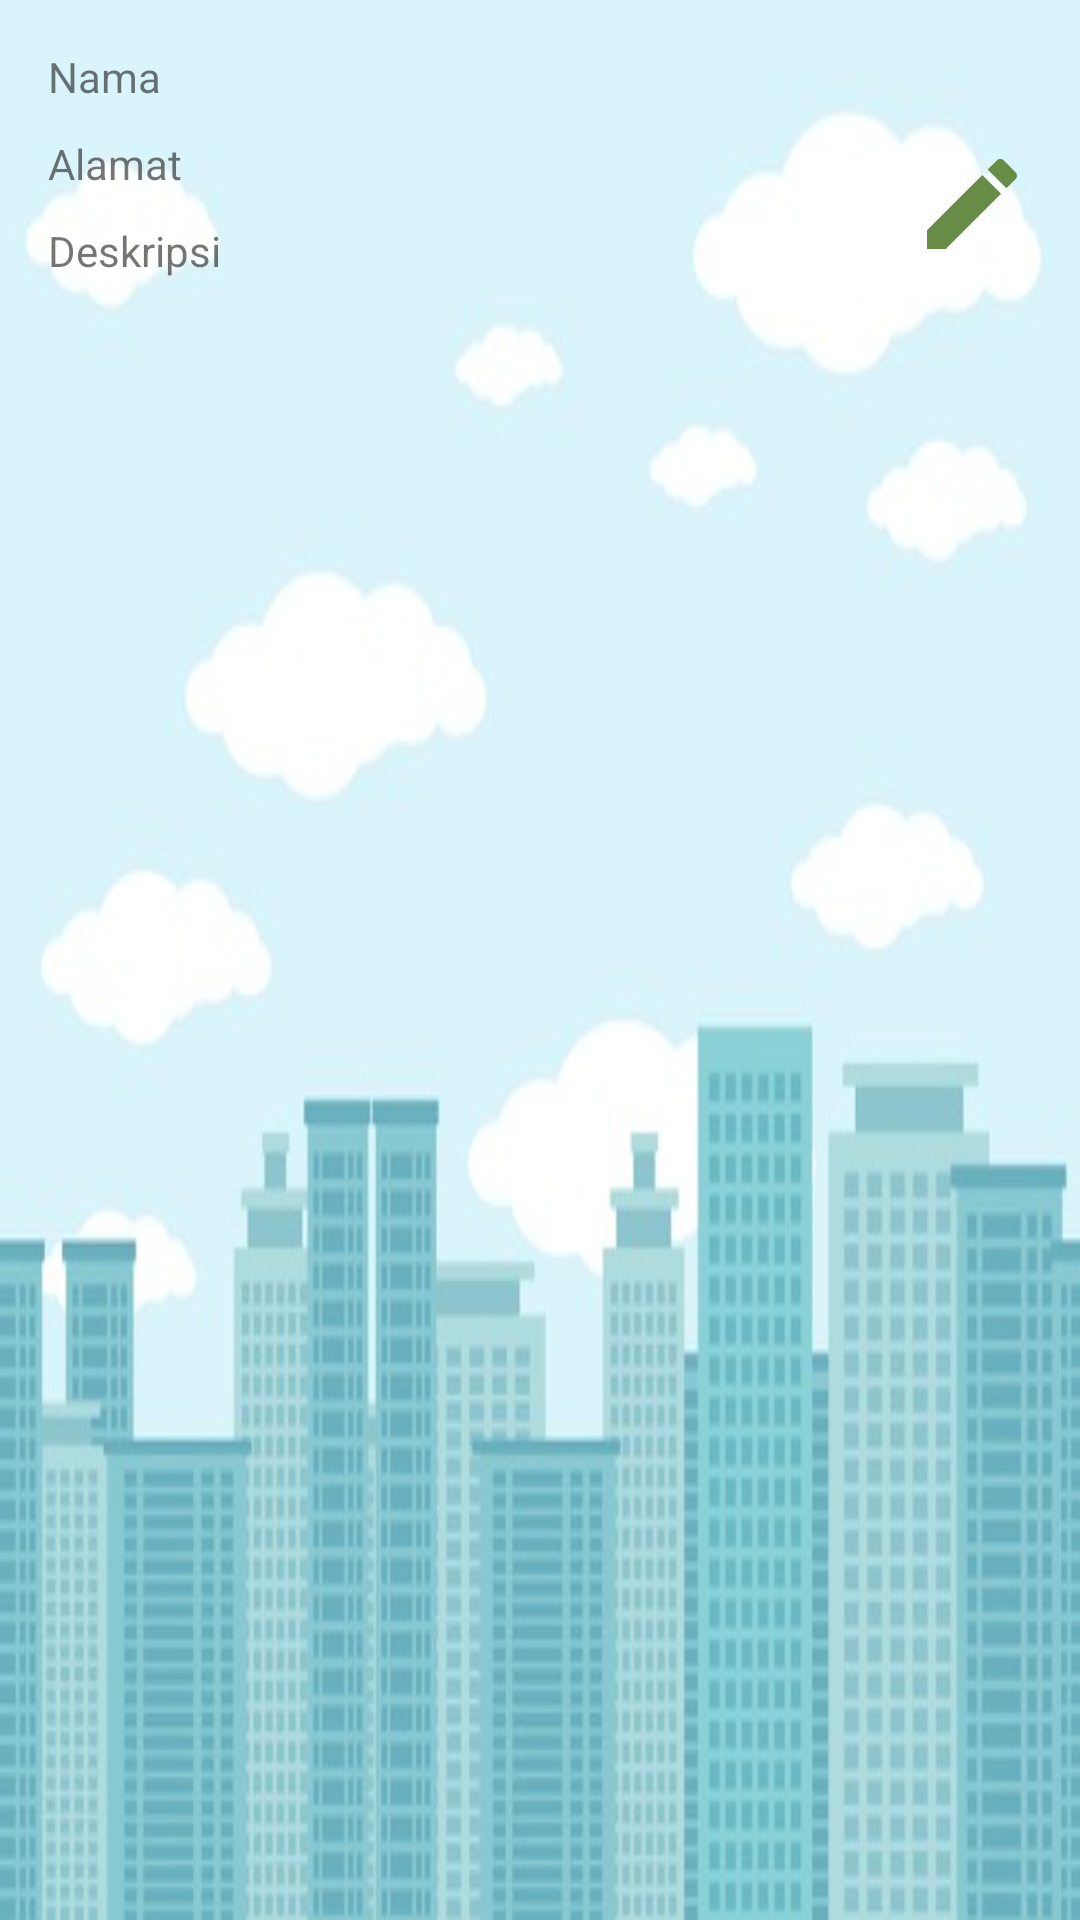

Point at icon controls on the screen. Image size 1080×1920, points as (x=x, y=y).
edit: (x=979, y=196)
